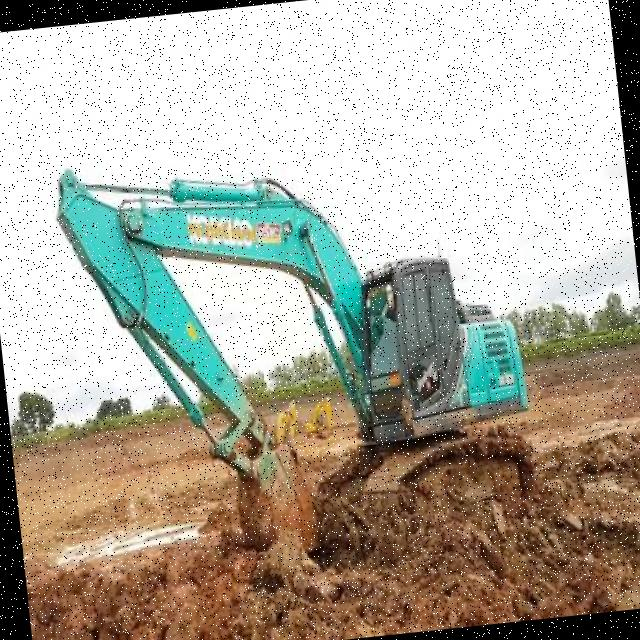Excavator: (51, 122, 550, 640)
